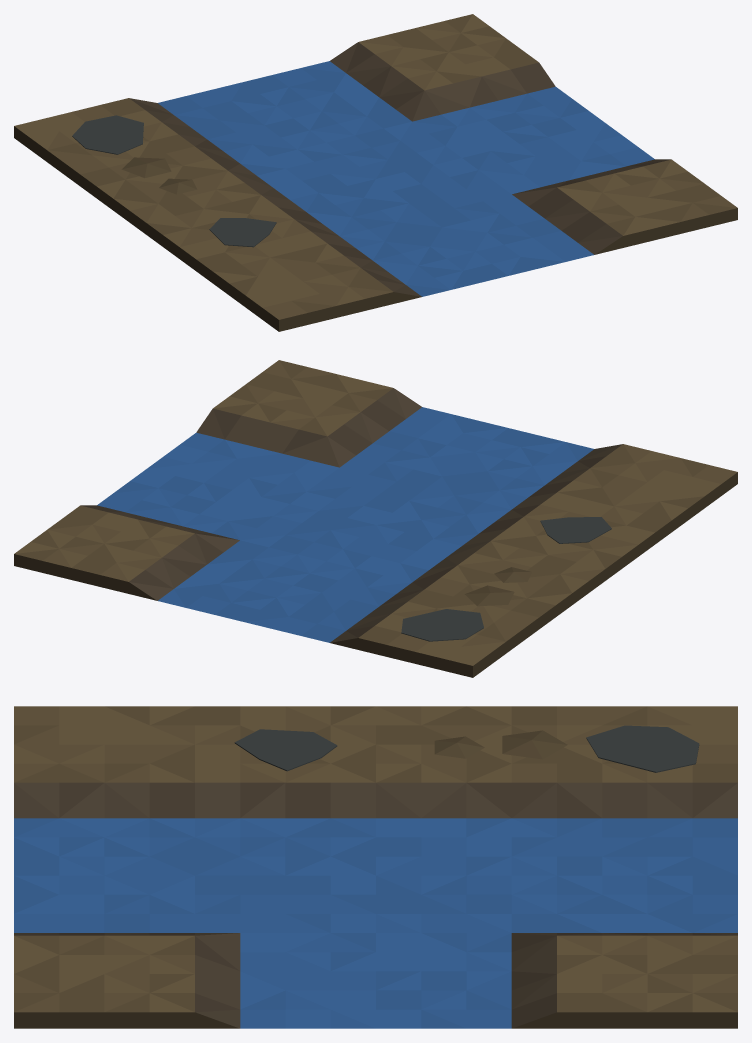
Rendered from river_junction_mud.glb.
3 views of the same model, one above another, from view 1: azimuth 30°, elevation 25°; view 2: azimuth 150°, elevation 25°; view 3: azimuth 270°, elevation 25° (orthographic). The views are drawn at different scales.
Visible parts, largest first — view 1: river_junction_mud; view 2: river_junction_mud; view 3: river_junction_mud.
Part boxes in pixels (bbox=[...]): river_junction_mud: bbox=[14, 14, 737, 331]; river_junction_mud: bbox=[14, 360, 737, 677]; river_junction_mud: bbox=[14, 706, 737, 1028].
Size of the model in its own units: 4 by 0.13 by 4.
